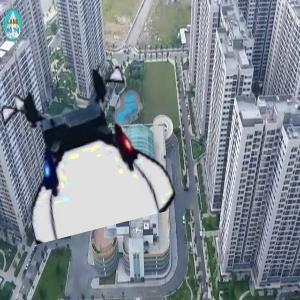drone: (2, 68, 166, 232)
